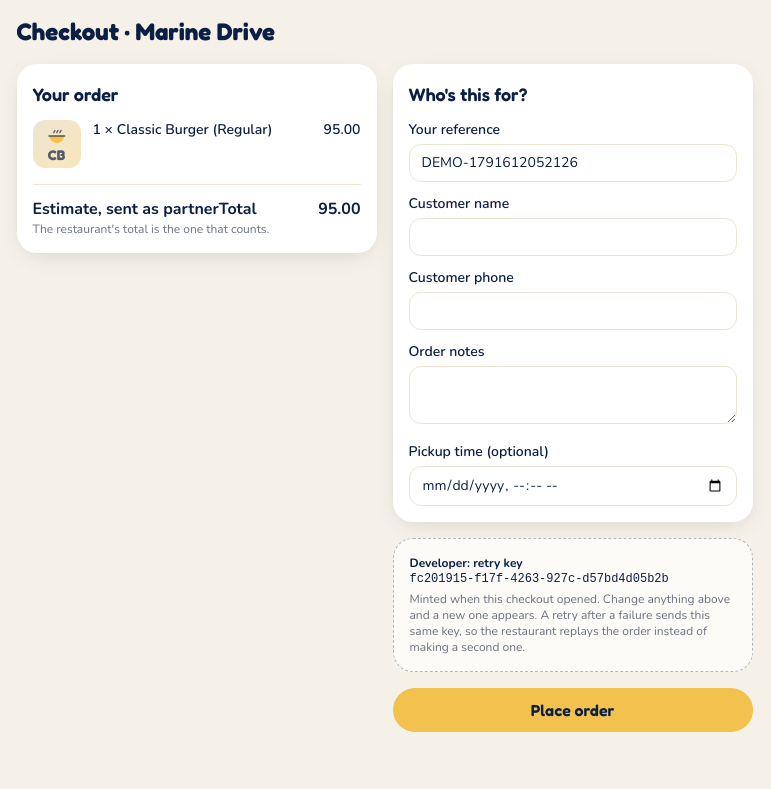
Test: CheckoutPage › after a failure, editing the request turns the retry button back into "Place order" with a new key
Click the button "Place order" at (572, 710), box x1=392 y1=688 x2=752 y2=732
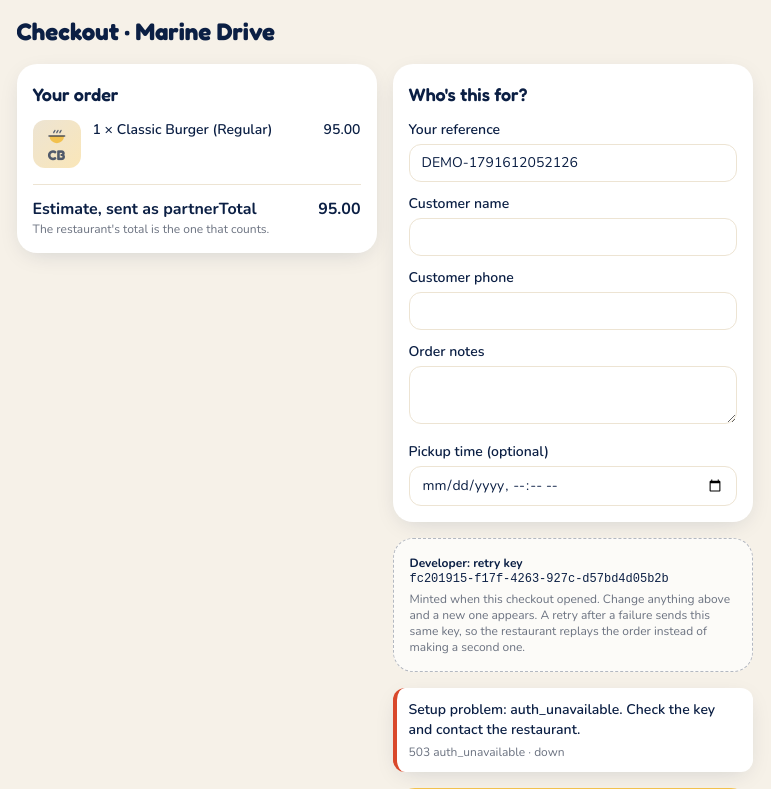
Type "no onions" into the text box labelled "Order notes" at (572, 395), box x1=408 y1=366 x2=736 y2=424
(page scrolled)
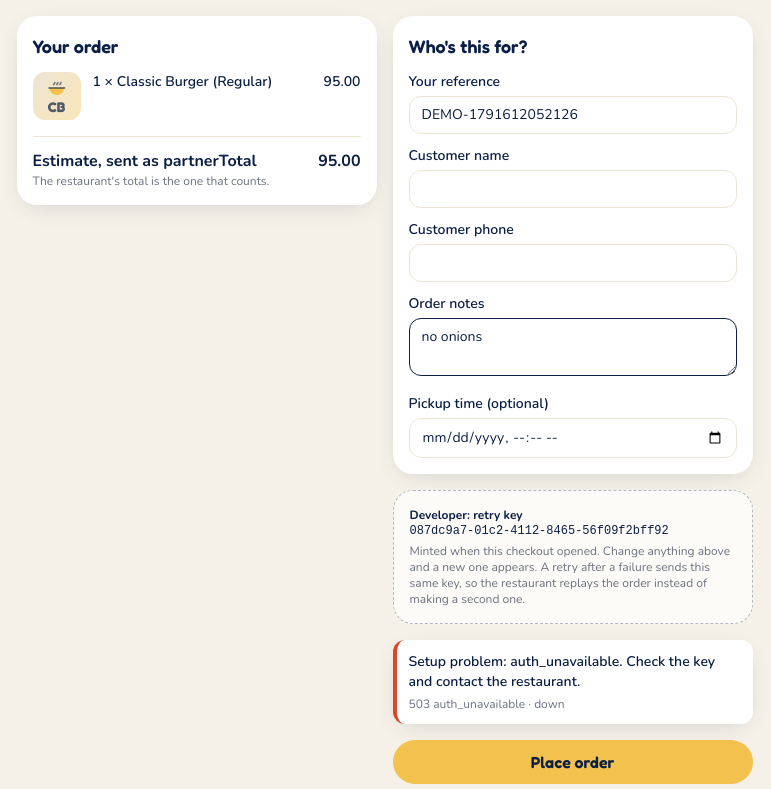
Expected: the button "Place order" is shown, x1=392 y1=740 x2=752 y2=784
